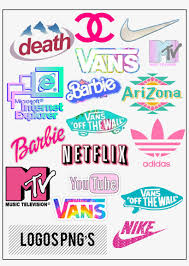adidas: (129, 118, 186, 168)
nike: (119, 17, 177, 43), (111, 228, 164, 249)
vans: (75, 48, 140, 74), (52, 198, 107, 218), (140, 188, 162, 198)
